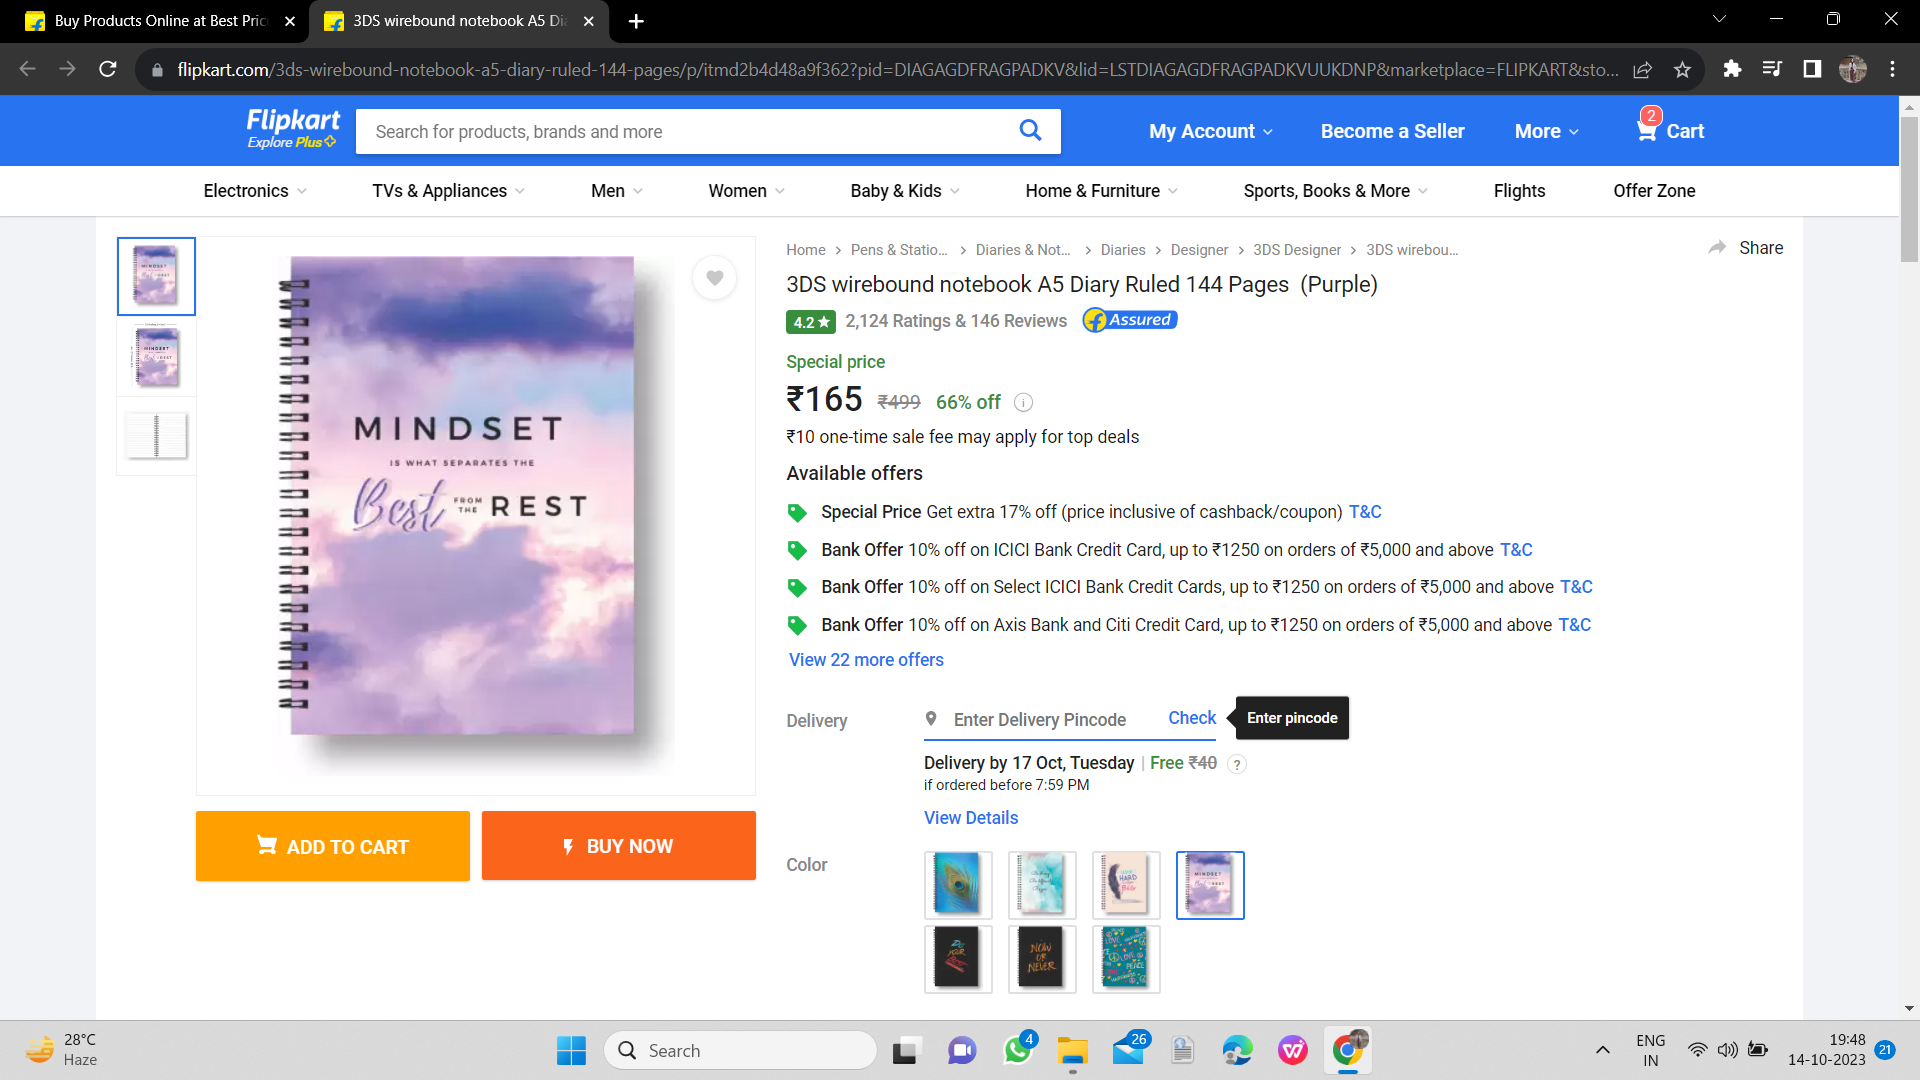Image: (220, 248, 754, 773), (903, 848, 1290, 993), (348, 92, 1081, 162)
Paragraph: (766, 496, 1636, 679), (169, 810, 766, 897), (1134, 99, 1717, 160), (771, 266, 1390, 299), (913, 692, 1361, 735), (783, 352, 1006, 421), (773, 310, 1200, 340), (782, 423, 1162, 455), (906, 745, 1142, 773), (766, 455, 944, 489), (1698, 224, 1799, 266), (783, 711, 861, 745), (783, 848, 837, 878)
